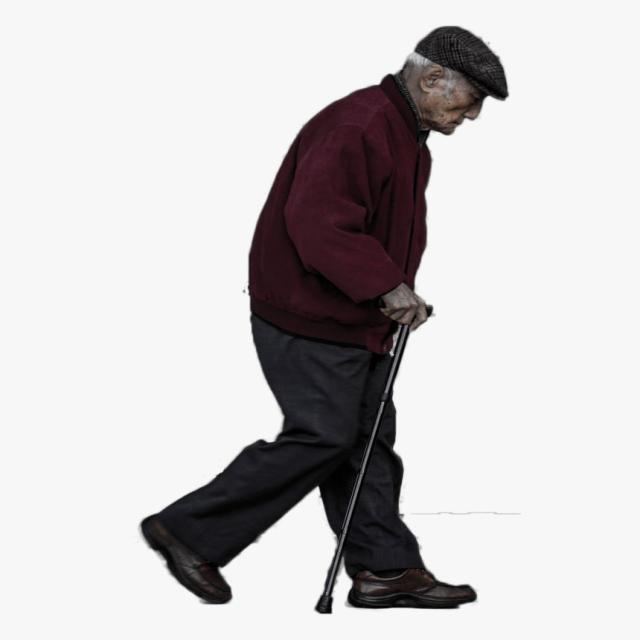idoso em pe: (143, 31, 508, 621)
